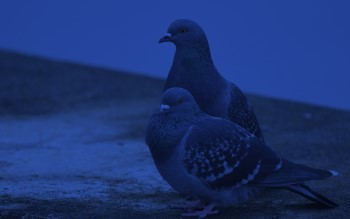pigeon: (144, 86, 341, 218), (157, 16, 228, 85)
